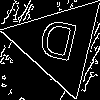D: (33, 18, 81, 71)
